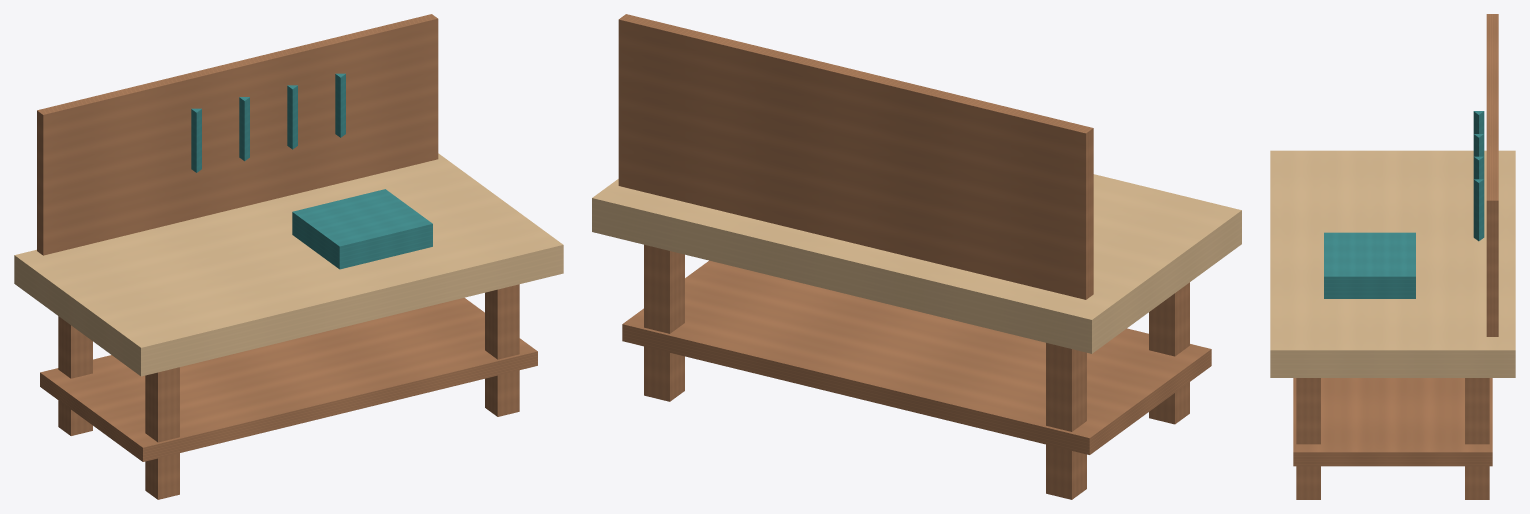
File: atlas100-s096-a06.lod2.glb
3 views of the same model, side by side, from view 1: azimuth 30°, elevation 25°; view 2: azimuth 150°, elevation 25°; view 3: azimuth 270°, elevation 25° (orthographic). The views are drawn at different scales.
Visible parts, largest first — view 1: atlas100-s096-a06:part-004, atlas100-s096-a06:part-006, atlas100-s096-a06:part-005, atlas100-s096-a06:part-012, atlas100-s096-a06:part-003, atlas100-s096-a06:part-001, atlas100-s096-a06:part-000, atlas100-s096-a06:part-008, atlas100-s096-a06:part-011, atlas100-s096-a06:part-010, atlas100-s096-a06:part-009; view 2: atlas100-s096-a06:part-006, atlas100-s096-a06:part-005, atlas100-s096-a06:part-004, atlas100-s096-a06:part-000, atlas100-s096-a06:part-002, atlas100-s096-a06:part-001; view 3: atlas100-s096-a06:part-004, atlas100-s096-a06:part-005, atlas100-s096-a06:part-012, atlas100-s096-a06:part-006, atlas100-s096-a06:part-002, atlas100-s096-a06:part-003, atlas100-s096-a06:part-011, atlas100-s096-a06:part-010.
Part boxes in pixels (x1,y1,x2,y2): atlas100-s096-a06:part-004: [14, 153, 563, 376]; atlas100-s096-a06:part-006: [37, 14, 438, 255]; atlas100-s096-a06:part-005: [40, 297, 537, 461]; atlas100-s096-a06:part-012: [292, 189, 432, 269]; atlas100-s096-a06:part-003: [485, 284, 519, 416]; atlas100-s096-a06:part-001: [145, 367, 179, 499]; atlas100-s096-a06:part-000: [58, 316, 92, 435]; atlas100-s096-a06:part-008: [191, 108, 201, 172]; atlas100-s096-a06:part-011: [335, 73, 345, 137]; atlas100-s096-a06:part-010: [287, 85, 297, 149]; atlas100-s096-a06:part-009: [239, 97, 249, 161]; atlas100-s096-a06:part-006: [618, 14, 1093, 299]; atlas100-s096-a06:part-005: [622, 260, 1211, 454]; atlas100-s096-a06:part-004: [592, 174, 1241, 353]; atlas100-s096-a06:part-000: [1046, 343, 1086, 499]; atlas100-s096-a06:part-002: [644, 244, 684, 401]; atlas100-s096-a06:part-001: [1149, 282, 1189, 424]; atlas100-s096-a06:part-004: [1270, 150, 1515, 377]; atlas100-s096-a06:part-005: [1293, 378, 1492, 466]; atlas100-s096-a06:part-012: [1324, 232, 1415, 298]; atlas100-s096-a06:part-006: [1486, 14, 1498, 336]; atlas100-s096-a06:part-002: [1465, 378, 1489, 499]; atlas100-s096-a06:part-003: [1296, 378, 1320, 499]; atlas100-s096-a06:part-011: [1473, 179, 1484, 241]; atlas100-s096-a06:part-010: [1473, 156, 1484, 179].
Bounding box in the file's own units: 3.08 × 2.21 × 1.6.
3 materials, 3 textured.
